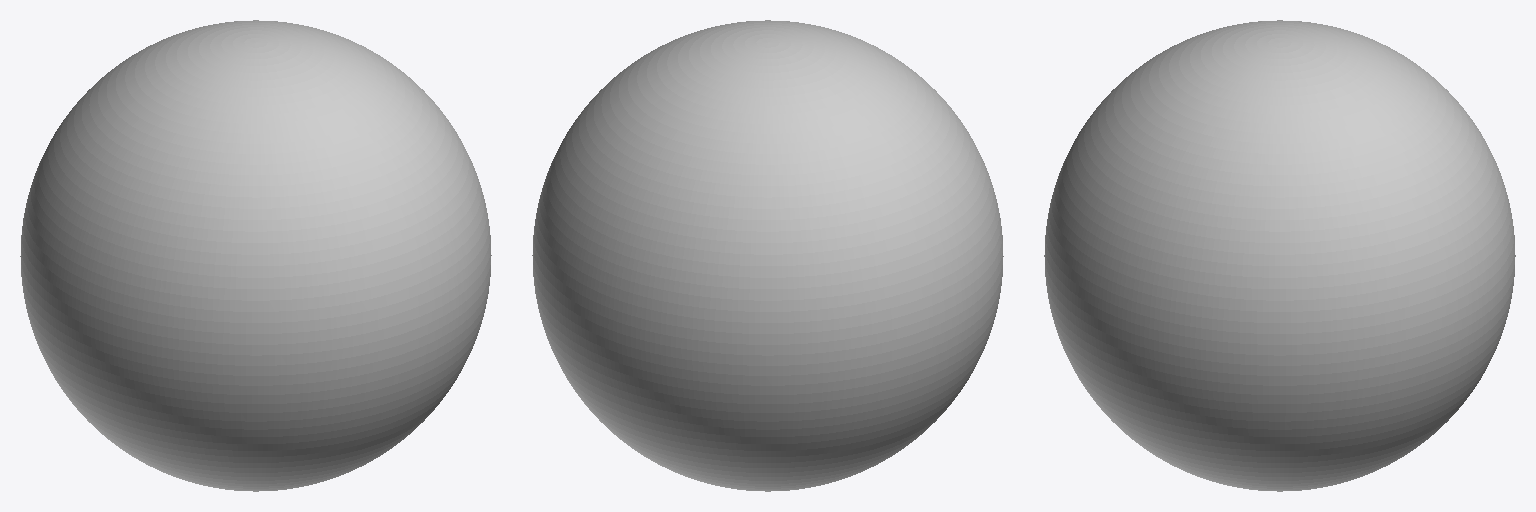
File: inv_sphere.obj
3 renders of one model, left to right at view 1: azimuth 30°, elevation 25°; view 2: azimuth 150°, elevation 25°; view 3: azimuth 270°, elevation 25°, orthographic.
Visible parts, largest first — view 1: Sphere; view 2: Sphere; view 3: Sphere.
Boxes of the visible parts, x1,y1,x2,y2 form: Sphere: [20, 20, 491, 491]; Sphere: [532, 20, 1003, 491]; Sphere: [1044, 20, 1515, 491].
Size of the model in its own units: 1 by 1 by 1.